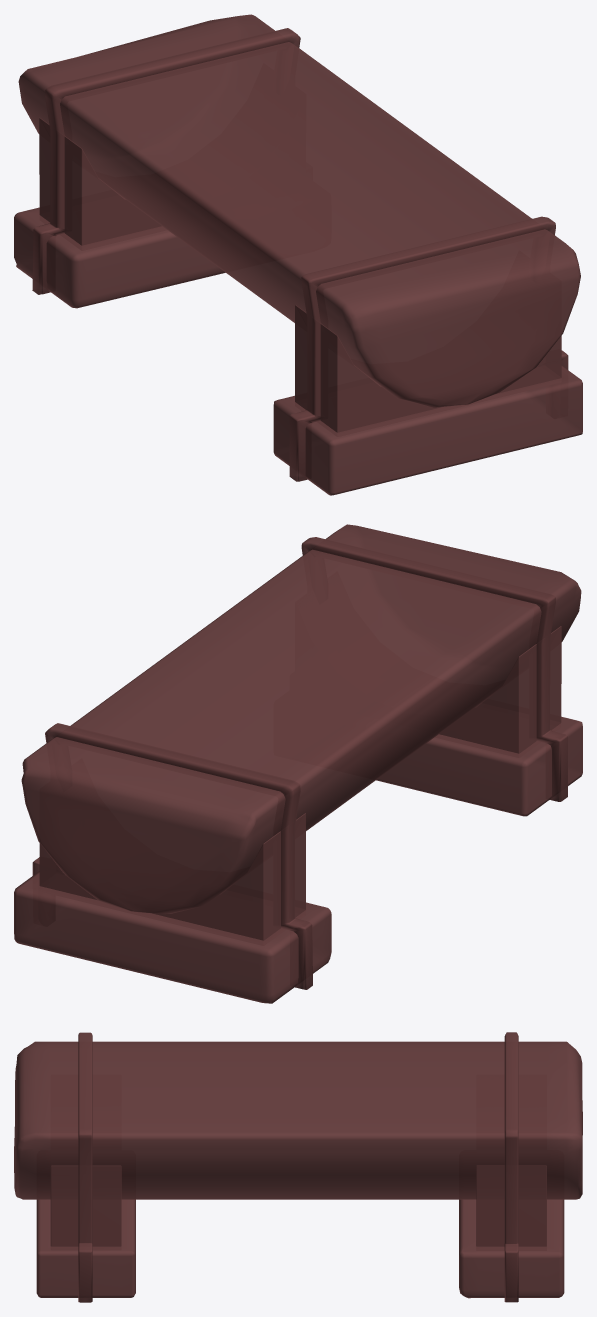
Rendered from SM_Bench_01.fbx.
3 renders of one model, top to bottom at view 1: azimuth 30°, elevation 25°; view 2: azimuth 150°, elevation 25°; view 3: azimuth 270°, elevation 25°, orthographic. The views are drawn at different scales.
Visible parts, largest first — view 1: SM_Chair_top_low; view 2: SM_Chair_top_low; view 3: SM_Chair_top_low.
Boxes of the visible parts, x1,y1,x2,y2 form: SM_Chair_top_low: (14, 14, 582, 495); SM_Chair_top_low: (14, 524, 582, 1003); SM_Chair_top_low: (14, 1032, 582, 1302).
Size of the model in its own units: 92.9 by 64.81 by 200.
